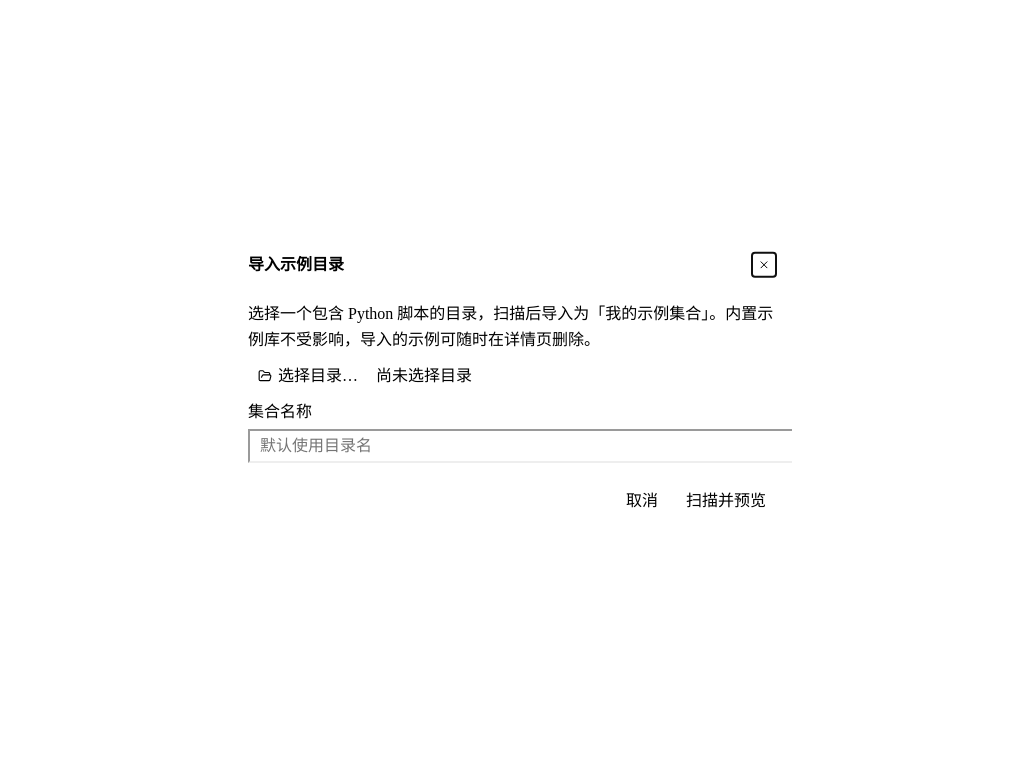
Test case: ImportWizardModal › 扫描抛错时把错误消息展示出来（不静默吞掉）
Click the button "选择目录…".
click(308, 376)  # box x1=248 y1=364 x2=368 y2=388
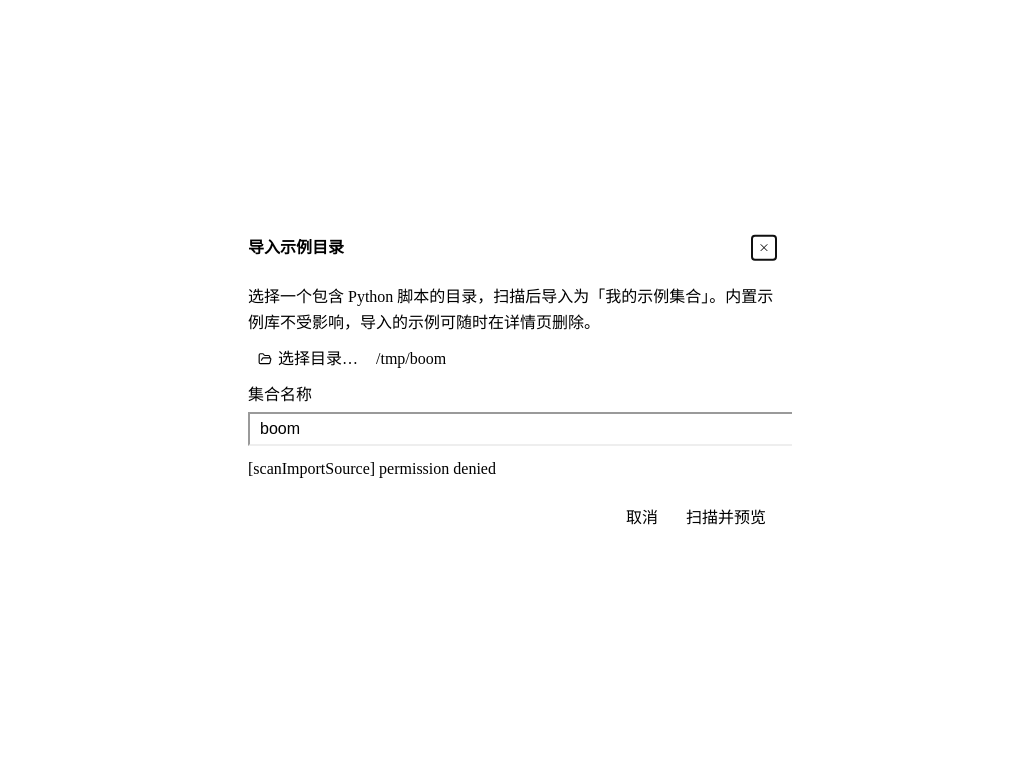
Expected: the text "permission denied" is shown, x1=248 y1=460 x2=496 y2=477
